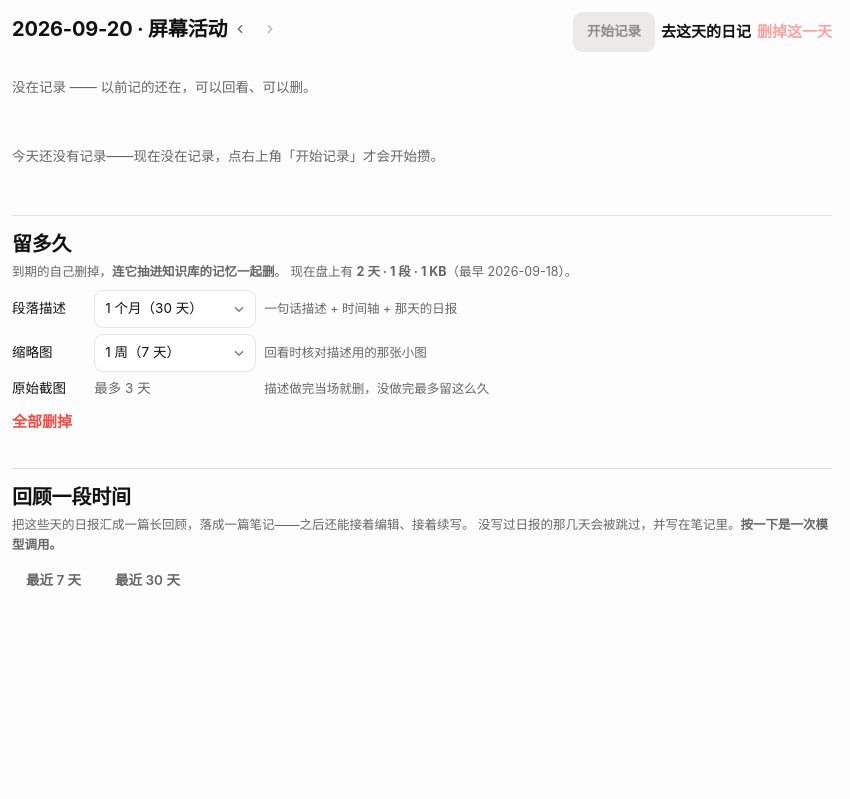
Test: P52 · 今天不在「有记录的日子」里 › 从今天按「上一条记录」落在 09-19，不跳过它
Check: the heading "2026-09-20 · 屏幕活动" is shown, box [12,13,227,45]
Step 1. Click the button named "上一条记录" → (245, 29), box [233,17,257,41]
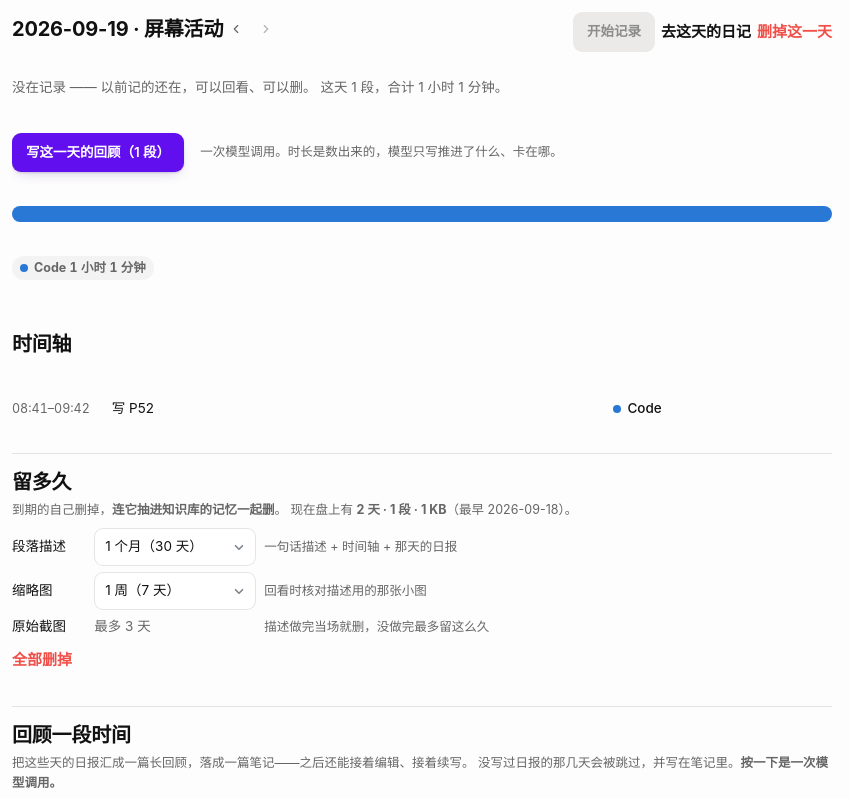
Check: the heading "2026-09-19 · 屏幕活动" is shown, box [12,13,223,45]
